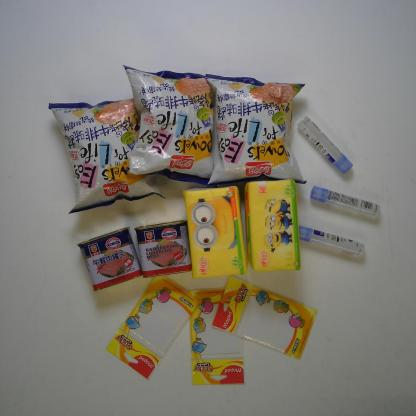Canned Food: (77, 225, 144, 291), (134, 219, 194, 279)
Puffed Food: (48, 91, 165, 214), (123, 62, 220, 186), (205, 74, 307, 188)
Stationery: (105, 274, 200, 380), (211, 277, 319, 360), (185, 287, 247, 385), (296, 116, 352, 174), (294, 224, 366, 258), (310, 186, 380, 220)
Tissue: (182, 181, 248, 281), (243, 177, 300, 274)
